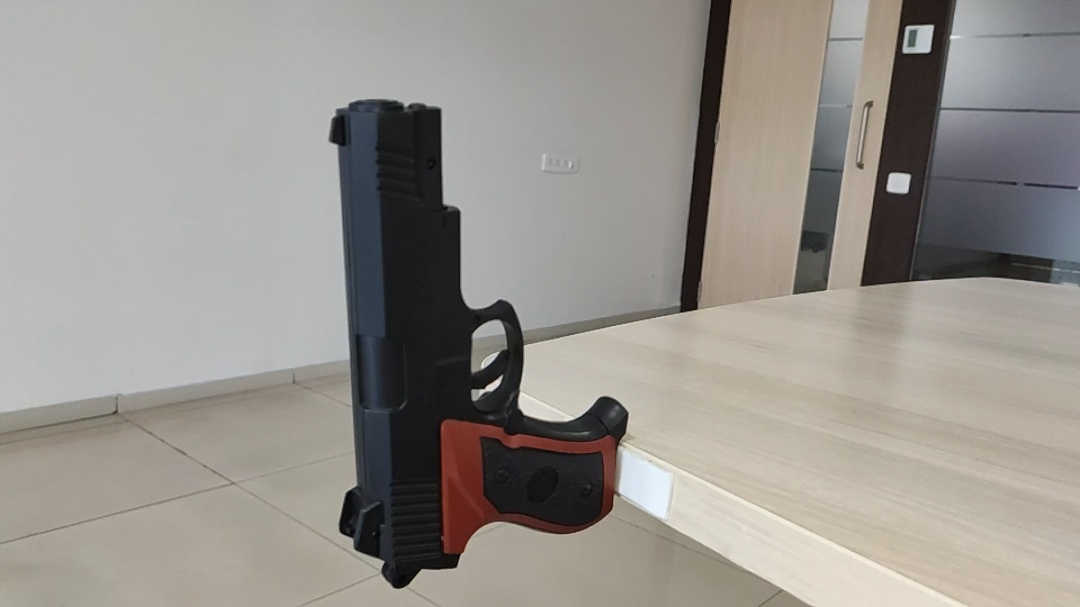gun: (328, 87, 632, 585)
